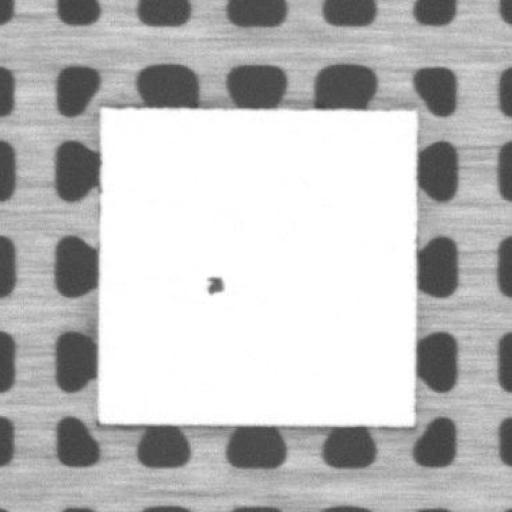DIE_INK: (201, 273, 226, 294)
